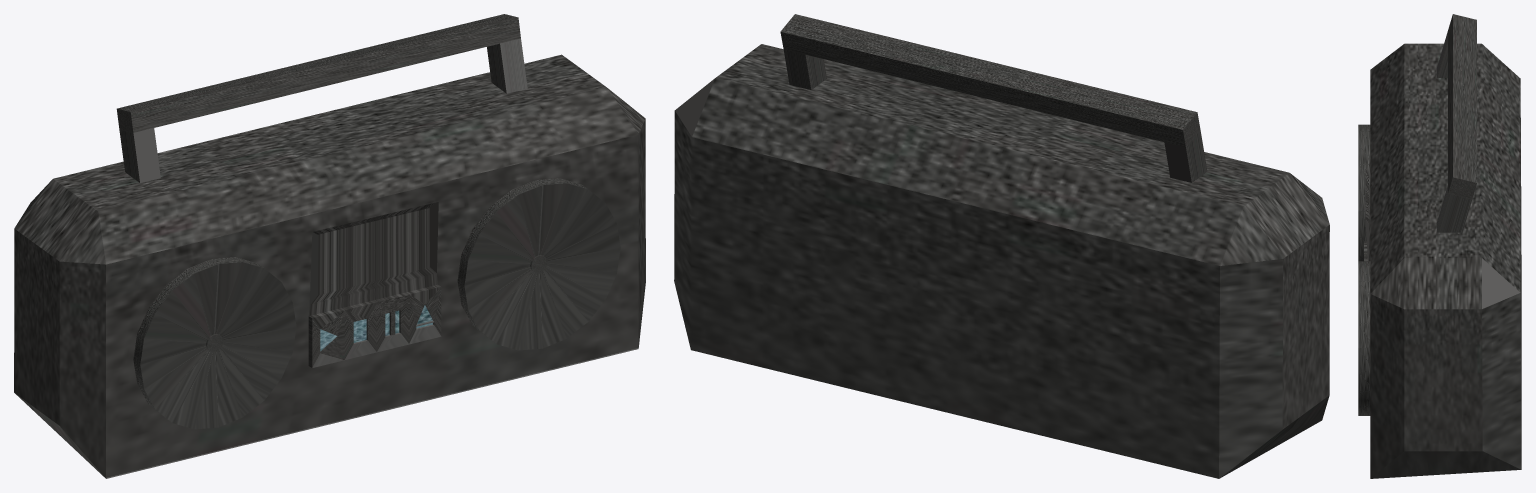
File: radio.fbx
3 renders of one model, left to right at view 1: azimuth 30°, elevation 25°; view 2: azimuth 150°, elevation 25°; view 3: azimuth 270°, elevation 25°, orthographic. The views are drawn at different scales.
Visible parts, largest first — view 1: pCube1, pCylinder4, pCylinder3, pCube2; view 2: pCube1, pCube2; view 3: pCube1, pCube2, pCylinder4, pCylinder3.
Part boxes in pixels (<box>): pCube1: <box>14,54,645,478</box>; pCylinder4: <box>457,178,620,350</box>; pCylinder3: <box>133,257,296,429</box>; pCube2: <box>116,14,527,182</box>; pCube1: <box>674,44,1329,478</box>; pCube2: <box>780,14,1207,182</box>; pCube1: <box>1364,43,1521,478</box>; pCube2: <box>1436,14,1476,232</box>; pCylinder4: <box>1358,261,1370,415</box>; pCylinder3: <box>1358,124,1370,261</box>.
Bounding box in the file's own units: 7.5 × 3.84 × 2.09.
Materials: 3 (3 with a texture image).
